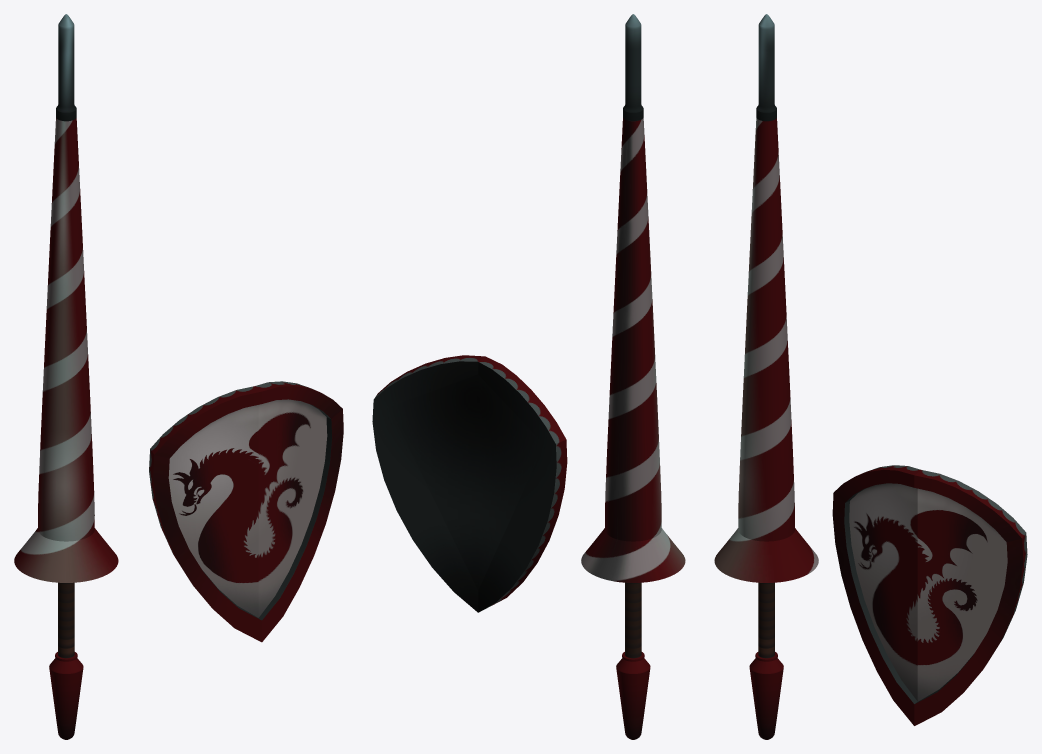
The model's file is red -lance.fbx.
3 renders of one model, left to right at view 1: azimuth 30°, elevation 25°; view 2: azimuth 150°, elevation 25°; view 3: azimuth 330°, elevation 25°, orthographic.
Parts seen in each view (by area): view 1: shieldo2, lance.001; view 2: shieldo2, lance.001; view 3: shieldo2, lance.001.
Boxes of the visible parts, <box> form: shieldo2: <box>149,381,343,642</box>; lance.001: <box>14,14,118,739</box>; shieldo2: <box>372,355,567,612</box>; lance.001: <box>581,14,685,739</box>; shieldo2: <box>832,465,1027,725</box>; lance.001: <box>714,14,818,739</box>.
Bounding box in the file's own units: 25.14 × 55.81 × 7.28.
1 material, 1 textured.
